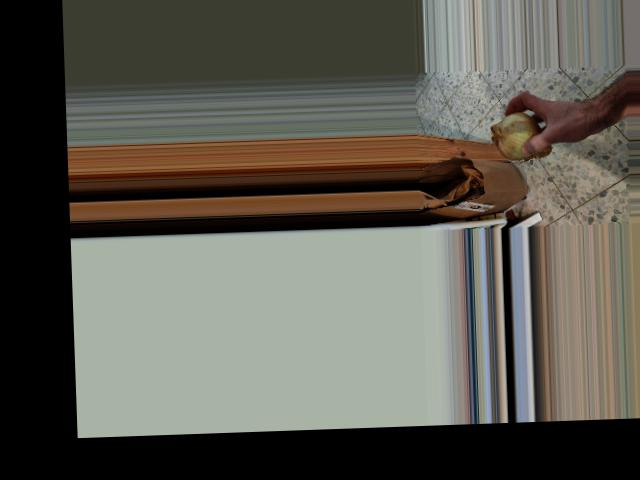onion: (488, 107, 552, 164)
